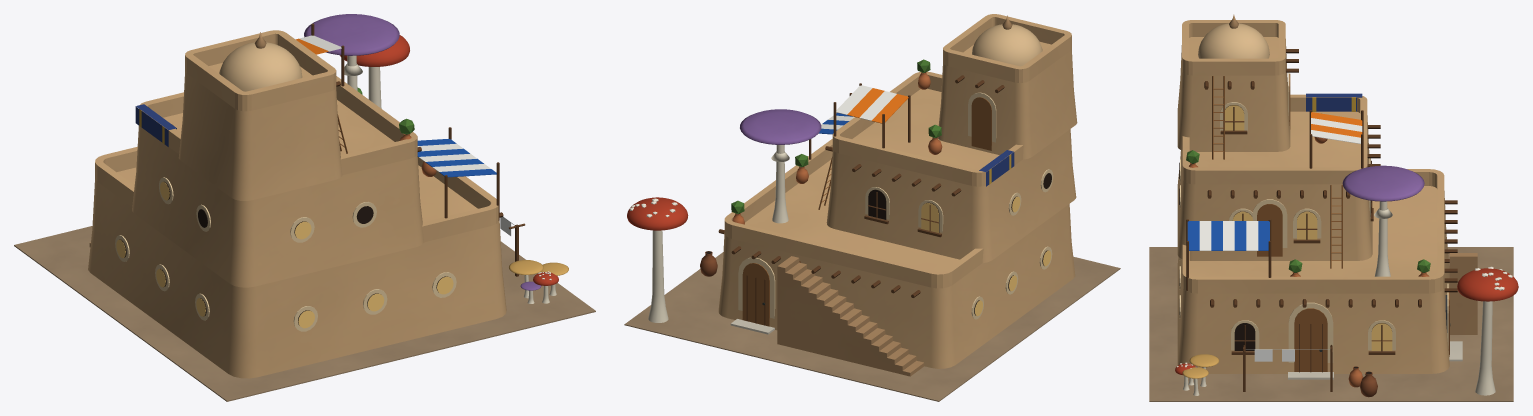
File: hl_terasy.glb
3 renders of one model, left to right at view 1: azimuth 30°, elevation 25°; view 2: azimuth 150°, elevation 25°; view 3: azimuth 270°, elevation 25°, orthographic. The views are drawn at different scales.
Visible parts, largest first — view 1: dum, noc; view 2: dum, noc; view 3: dum, noc.
Boxes of the visible parts, x1,y1,x2,y2 form: dum: (14,14,595,401); noc: (116,182,453,328); dum: (624,14,1120,401); noc: (921,196,1051,316); dum: (1149,14,1518,401); noc: (1225,105,1392,350).
Bounding box in the file's own units: 14.45 × 11.52 × 14.36.
1 material, 1 textured.
